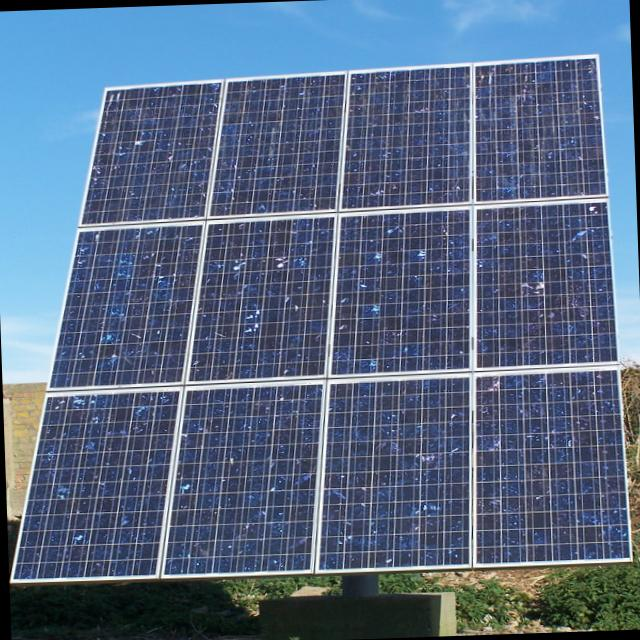faulty: (14, 59, 636, 576)
